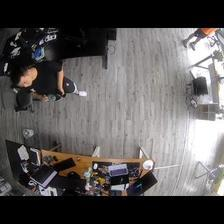normal: (9, 59, 86, 102)
